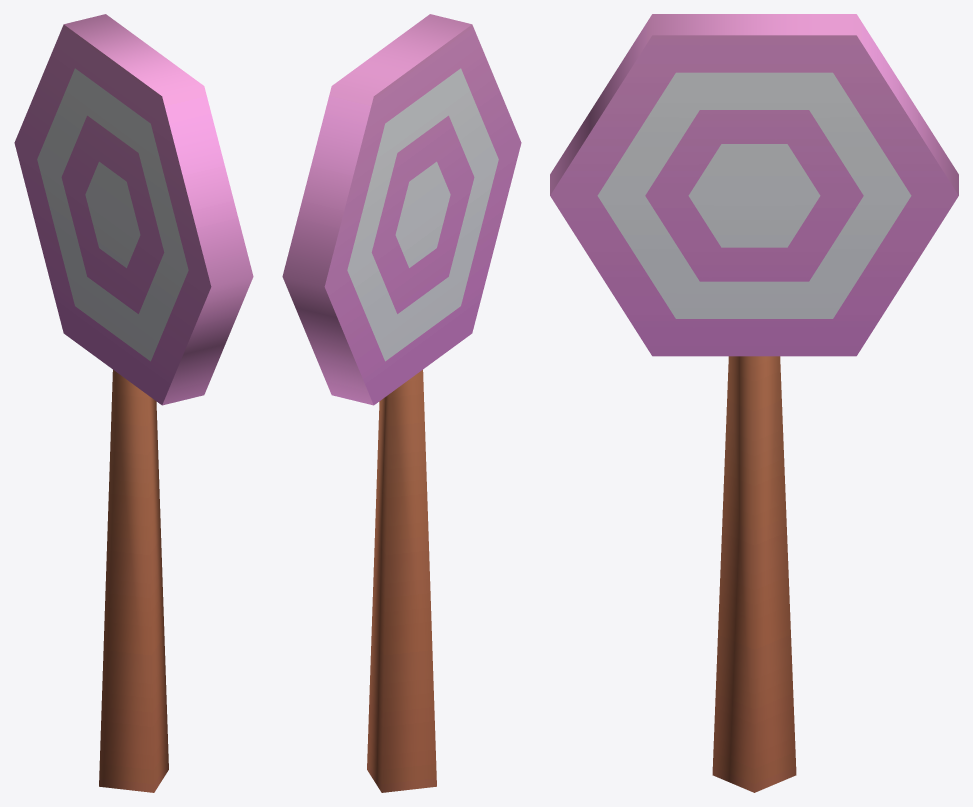
The model's file is food.lollypop.glb.
3 views of the same model, side by side, from view 1: azimuth 30°, elevation 25°; view 2: azimuth 150°, elevation 25°; view 3: azimuth 270°, elevation 25° (orthographic). The views are drawn at different scales.
Parts seen in each view (by area): view 1: lollypop; view 2: lollypop; view 3: lollypop.
Part boxes in pixels (x1,y1,x2,y2): lollypop: [14, 14, 253, 792]; lollypop: [282, 14, 521, 792]; lollypop: [550, 14, 958, 792].
Bounding box in the file's own units: 0.0114 × 0.1128 × 0.0557.
1 material, 1 textured.
